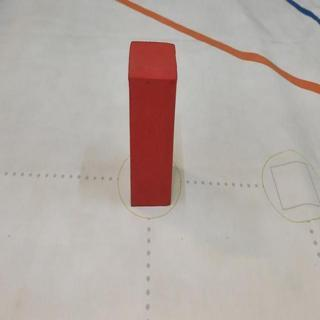redbox: (127, 40, 177, 205)
